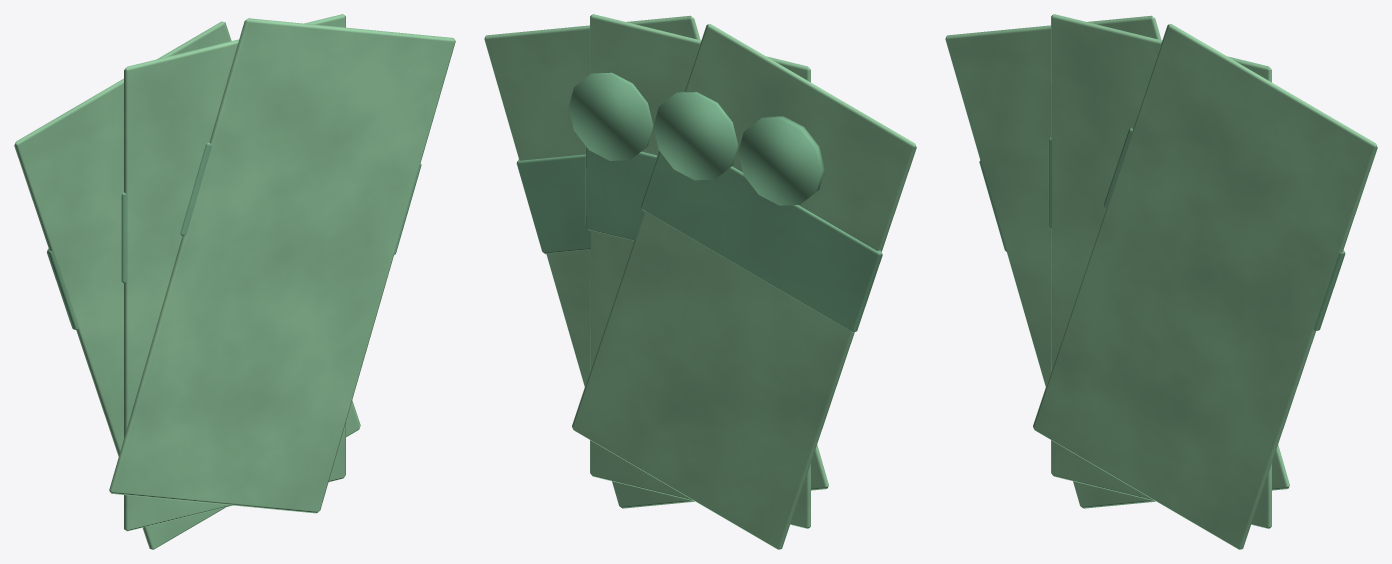
File: Maquininha_CashBills.fbx
The picture shows the model from 3 angles, left to right: view 1: azimuth 30°, elevation 25°; view 2: azimuth 150°, elevation 25°; view 3: azimuth 330°, elevation 25°; orthographic projection.
Visible parts, largest first — view 1: Maquininha_CashBills; view 2: Maquininha_CashBills; view 3: Maquininha_CashBills.
Boxes of the visible parts, left/top/right/bottom form: Maquininha_CashBills: left=14, top=14, right=455, bottom=549; Maquininha_CashBills: left=484, top=14, right=916, bottom=549; Maquininha_CashBills: left=945, top=14, right=1377, bottom=549.
Bounding box in the file's own units: 0.148 × 0.1652 × 0.0065.
Materials: 1 (1 with a texture image).
